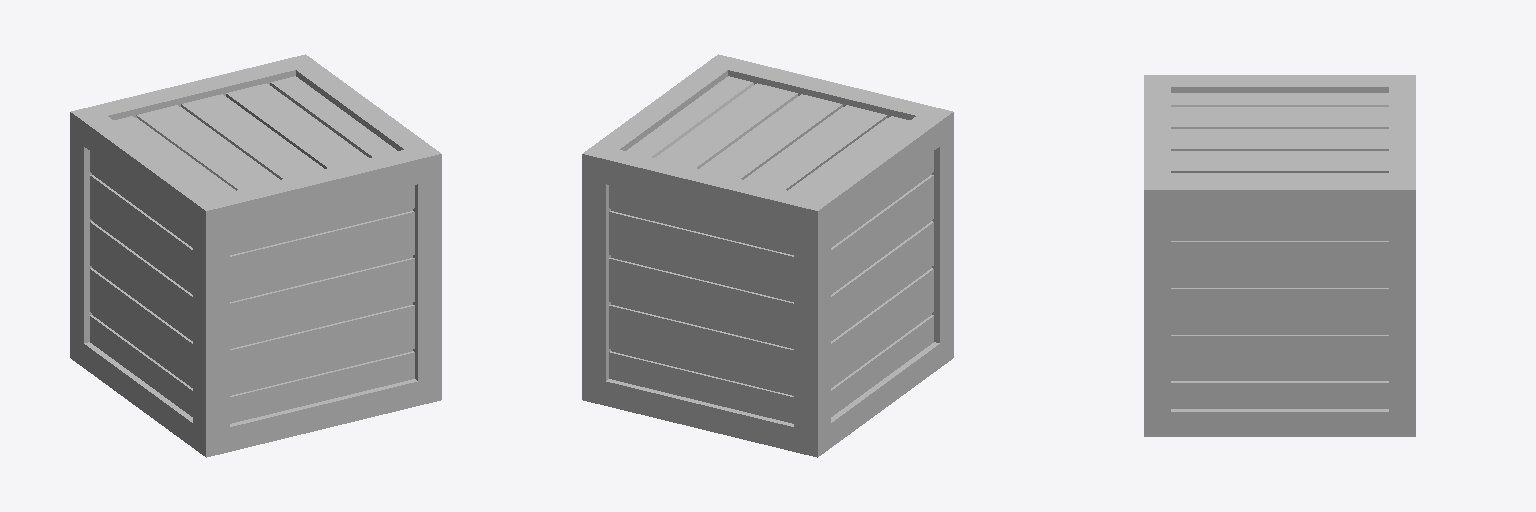
Rendered from box_uncolor.obj.
3 views of the same model, side by side, from view 1: azimuth 30°, elevation 25°; view 2: azimuth 150°, elevation 25°; view 3: azimuth 270°, elevation 25° (orthographic).
Visible parts, largest first — view 1: 木箱; view 2: 木箱; view 3: 木箱.
Boxes of the visible parts, x1,y1,x2,y2 form: 木箱: [70, 54, 441, 457]; 木箱: [582, 54, 953, 457]; 木箱: [1144, 75, 1415, 436].
Bounding box in the file's own units: 0.4 × 0.4 × 0.4.